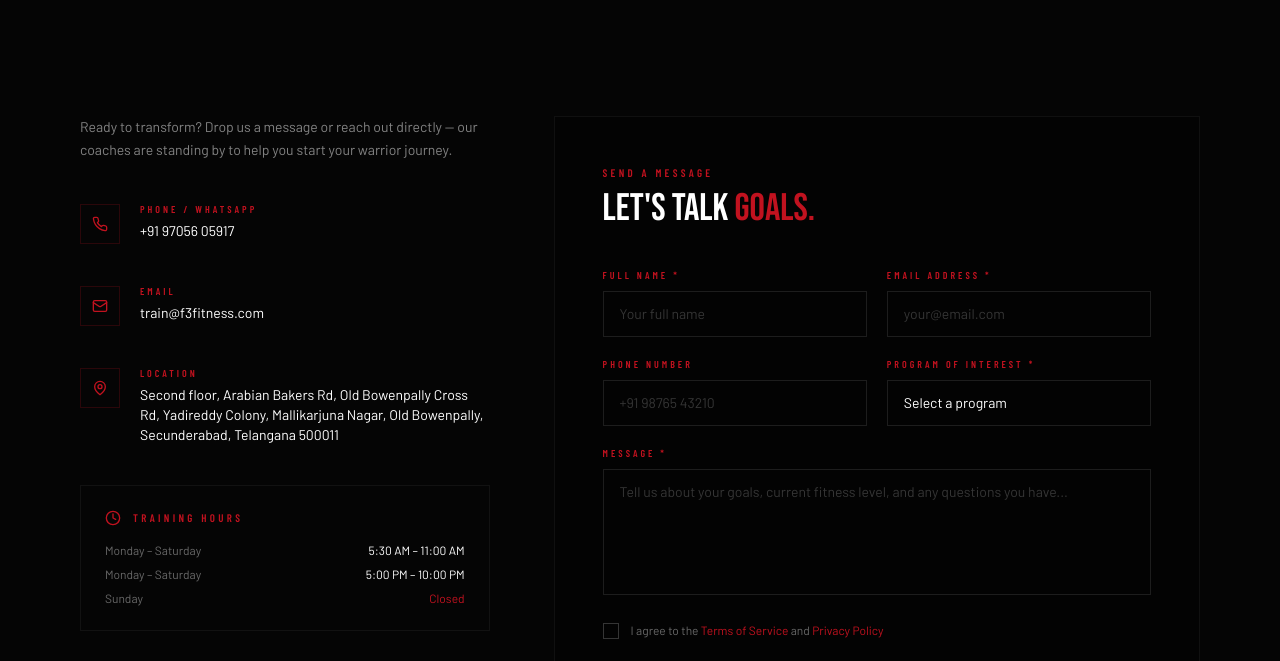
Test: Contact Page › shows email validation error
The width and height of the screenshot is (1280, 661).
(page scrolled)
Type "notanemail" into the field with placeholder "your@email.com". click: (1019, 314)
box: 887,291 -> 1151,337
(page scrolled)
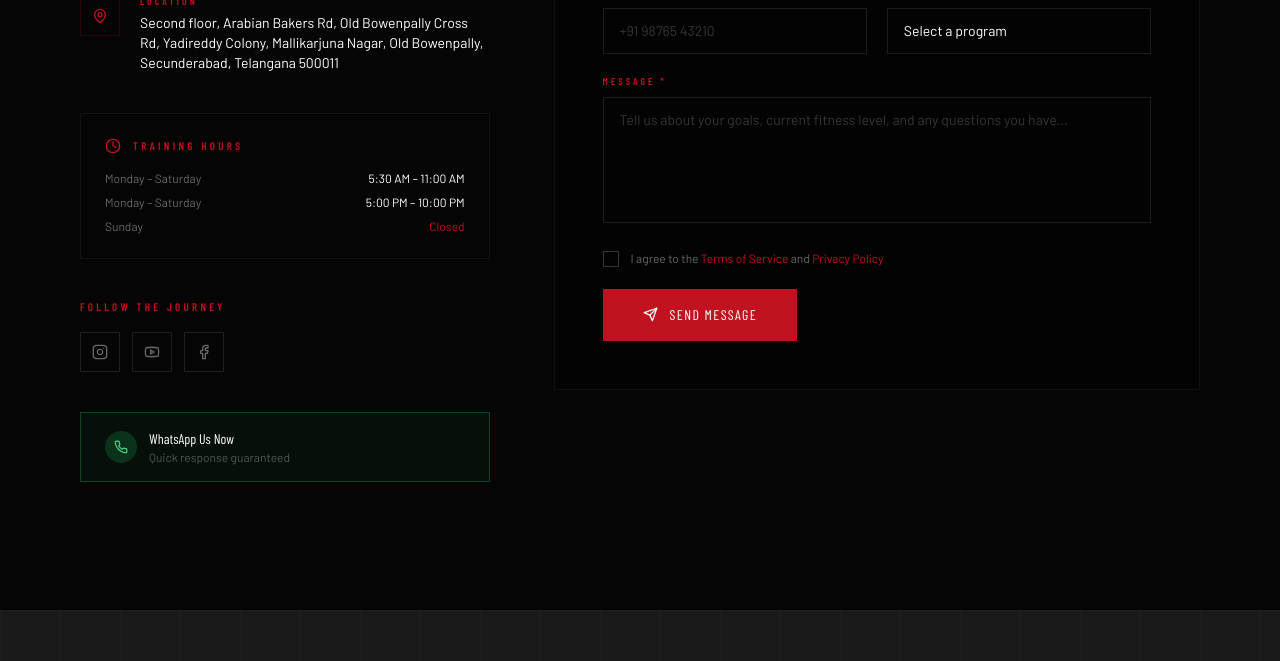
Click the button "Send Message". click: (700, 315)
box: 603,289 -> 797,341
(page scrolled)
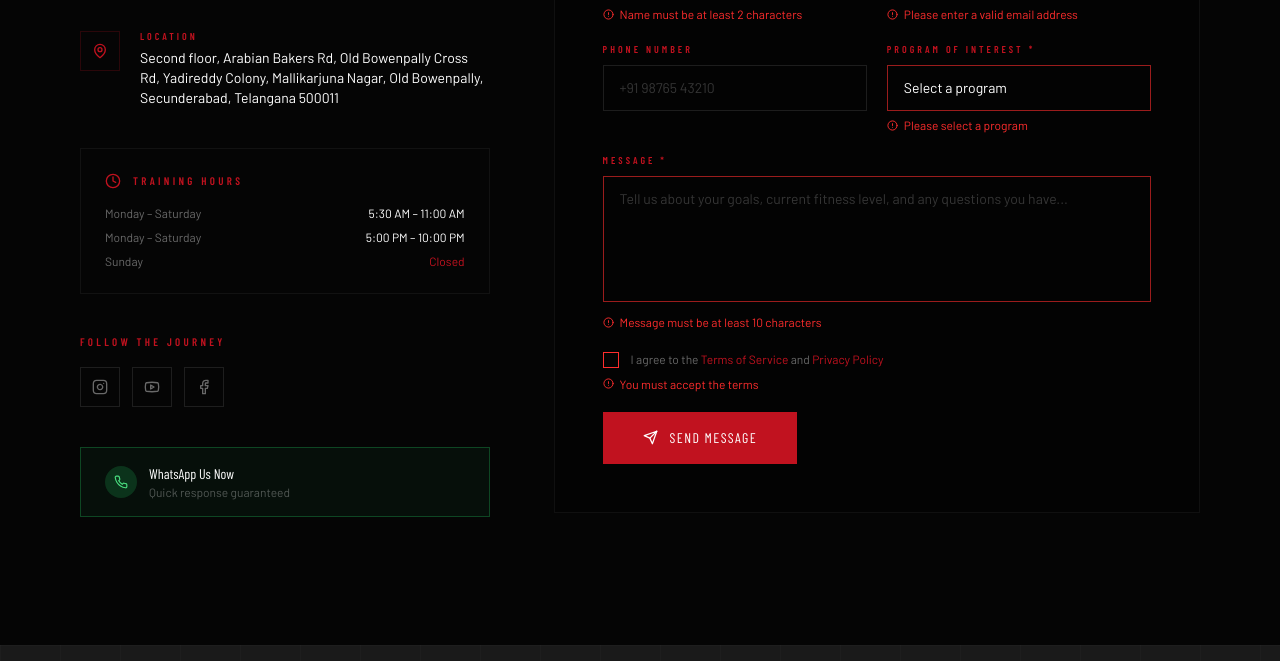
Expected: the text "Please enter a valid email address" is shown, 887,7 -> 1078,21
